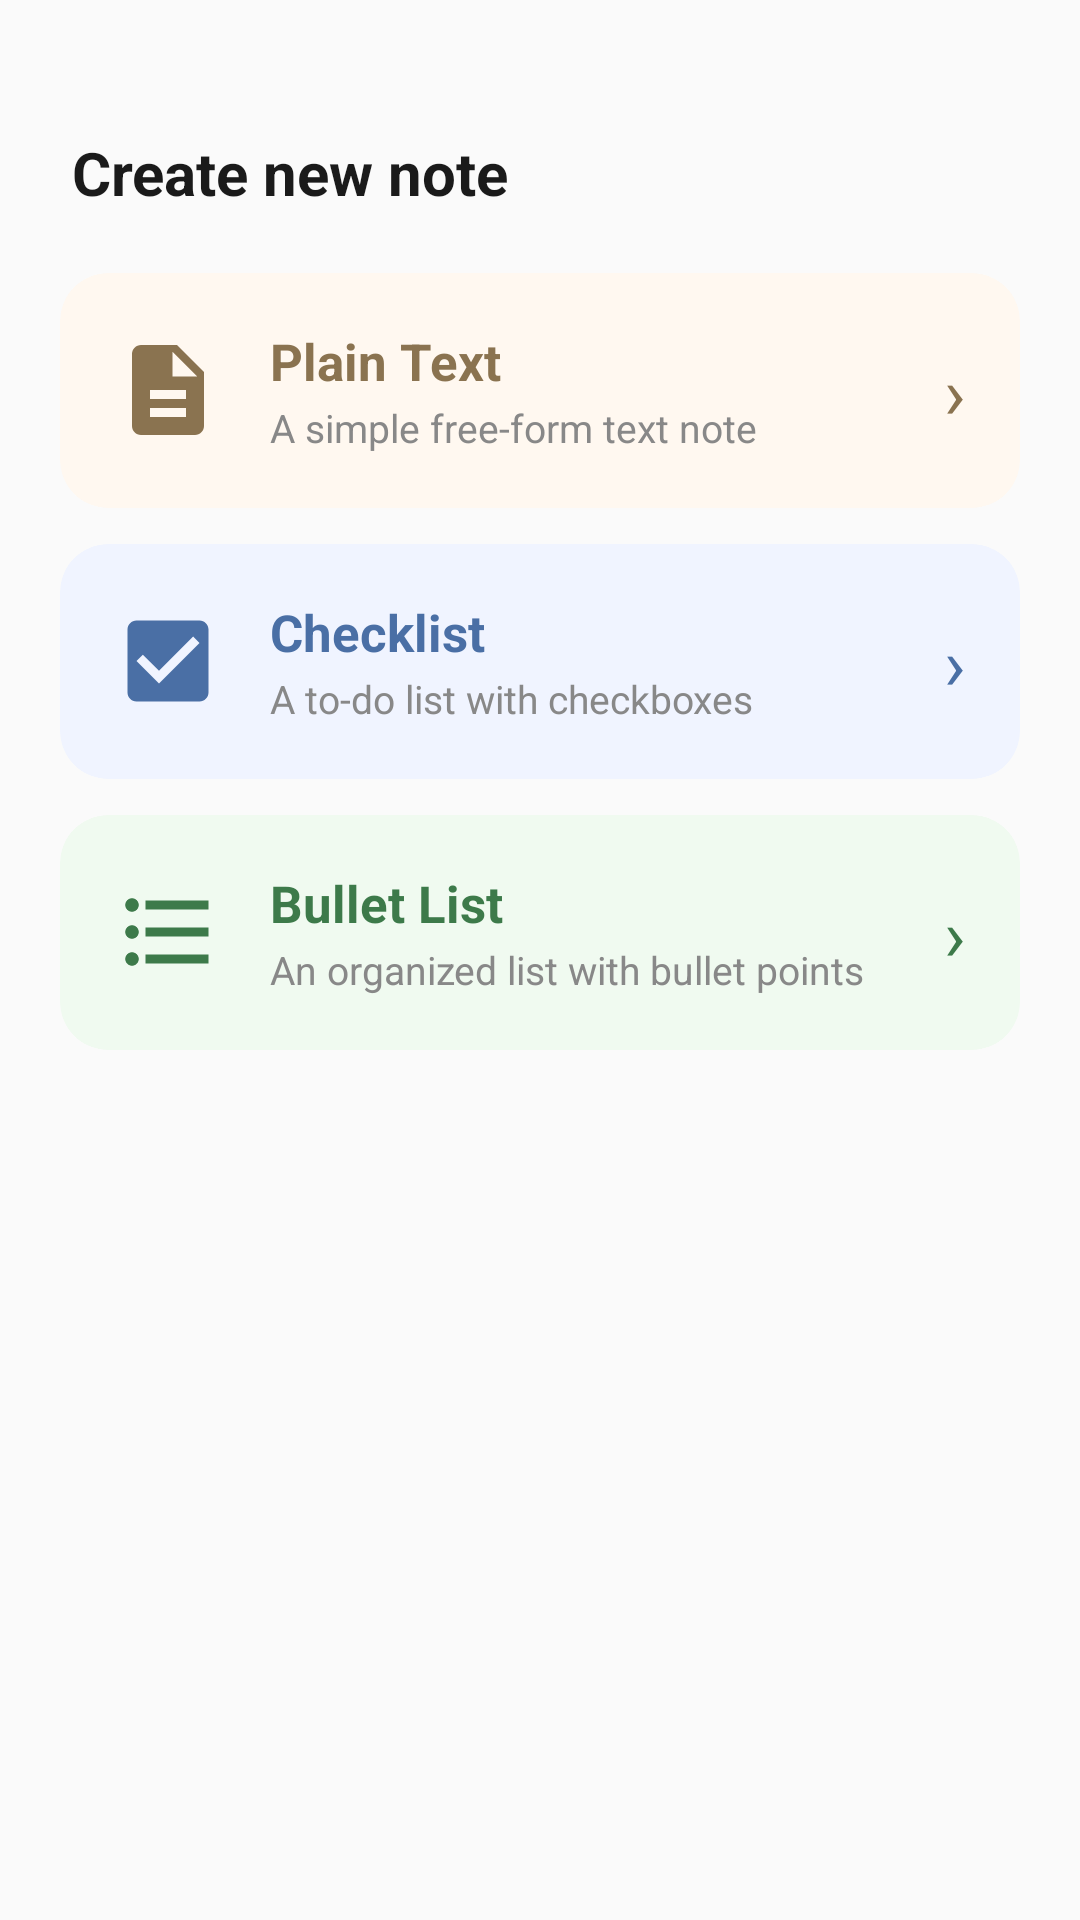

Screen size 1080w x 1920h. Icon name, then its center in pixels as (x=x, y=y):
type bullet: (x=167, y=932)
type plain: (x=168, y=390)
